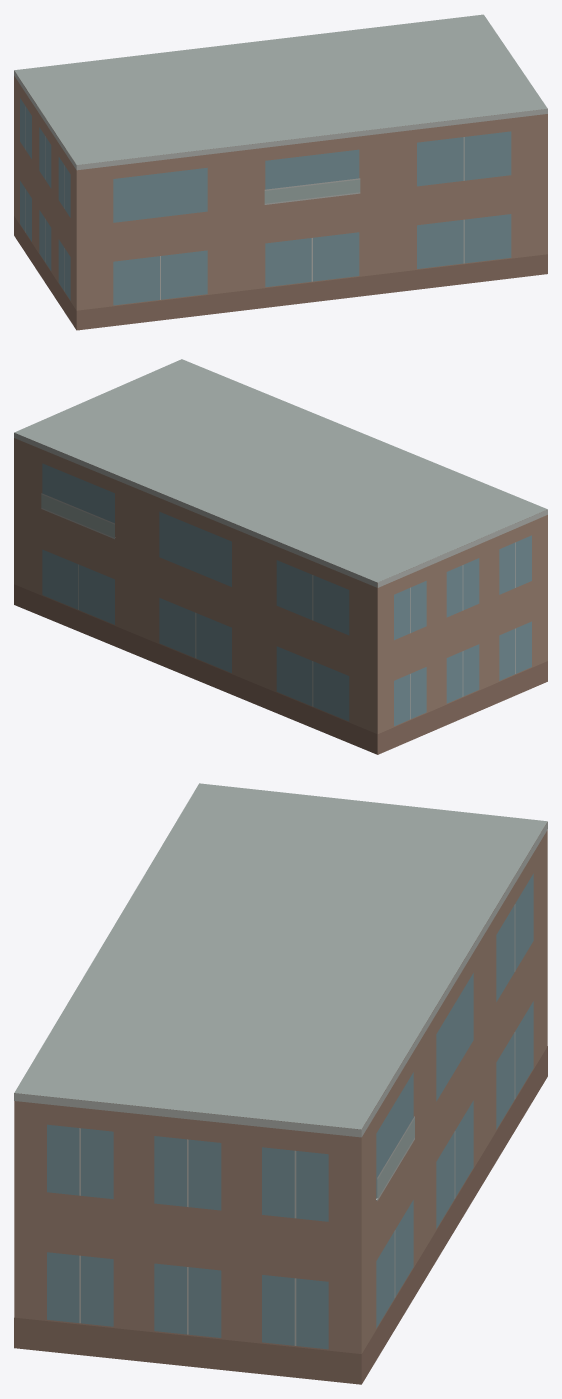
File: survey-upis-32492670.glb
The picture shows the model from 3 angles, top to bottom: view 1: azimuth 30°, elevation 25°; view 2: azimuth 150°, elevation 25°; view 3: azimuth 270°, elevation 25°; orthographic projection. The views are drawn at different scales.
Visible parts, largest first — view 1: survey-upis-32492670.tmp; view 2: survey-upis-32492670.tmp; view 3: survey-upis-32492670.tmp.
Boxes of the visible parts, left/top/right/bottom form: survey-upis-32492670.tmp: left=14, top=14, right=547, bottom=330; survey-upis-32492670.tmp: left=14, top=359, right=547, bottom=754; survey-upis-32492670.tmp: left=14, top=783, right=547, bottom=1384.
Size of the model in its own units: 22.71 by 7.8 by 14.8.
